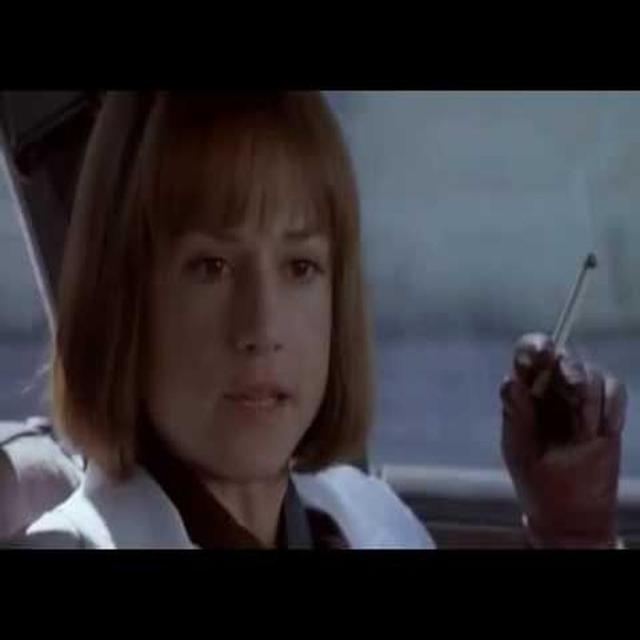smoking: (53, 93, 616, 504)
